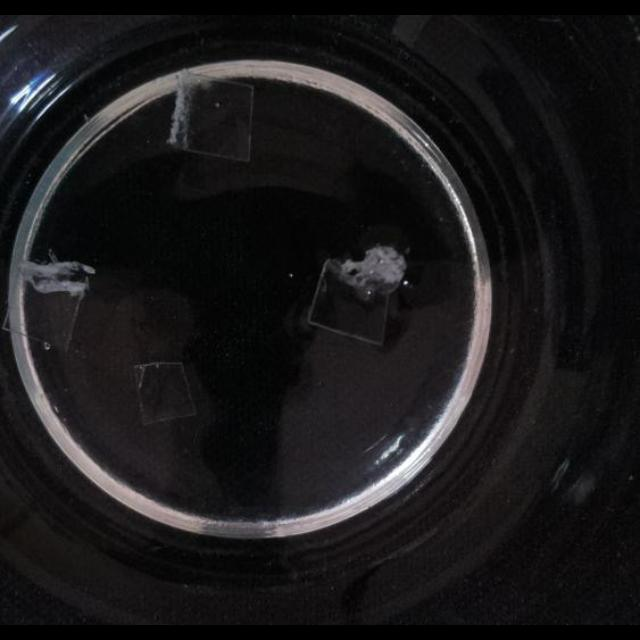Film: (308, 245, 402, 348), (4, 250, 94, 354), (172, 78, 258, 164), (131, 359, 199, 426)
